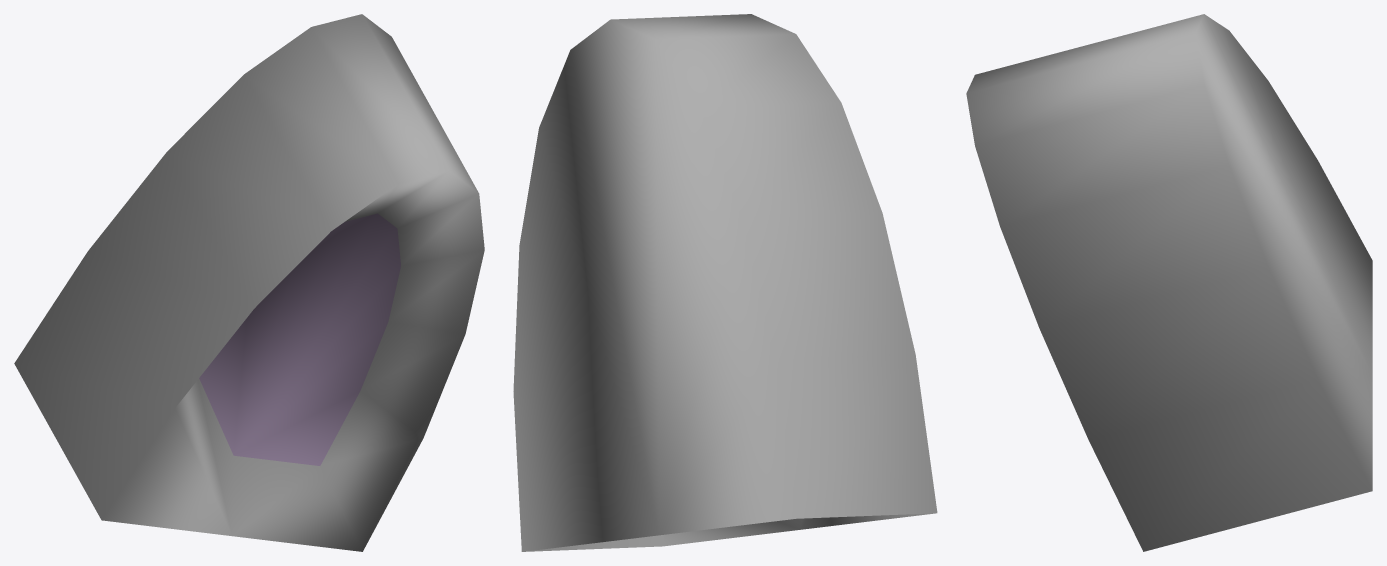
Rendered from Cat_Ears.fbx.
The picture shows the model from 3 angles, left to right: view 1: azimuth 30°, elevation 25°; view 2: azimuth 150°, elevation 25°; view 3: azimuth 270°, elevation 25°; orthographic projection. The views are drawn at different scales.
Visible parts, largest first — view 1: Cat_Ear; view 2: Cat_Ear; view 3: Cat_Ear.
Boxes of the visible parts, box(x1,y1,x2,y2) form: Cat_Ear: box(14, 14, 484, 551); Cat_Ear: box(513, 14, 937, 551); Cat_Ear: box(966, 14, 1372, 551).
Bounding box in the file's own units: 2.7 × 3.92 × 2.72.
